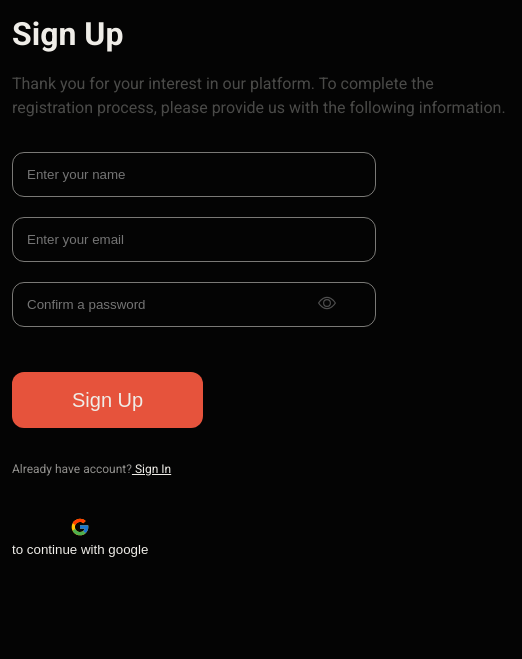
Test: Form registration component › displays error message on failed registration (not token)
In the field labelled "name": (194, 174) left=12, top=152, right=376, bottom=197, type "User"
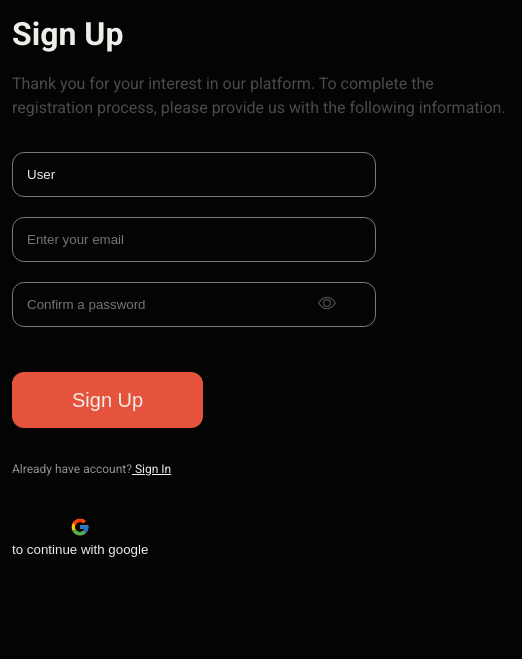
In the field labelled "email": (194, 240) left=12, top=217, right=376, bottom=262, type "test@example.com"
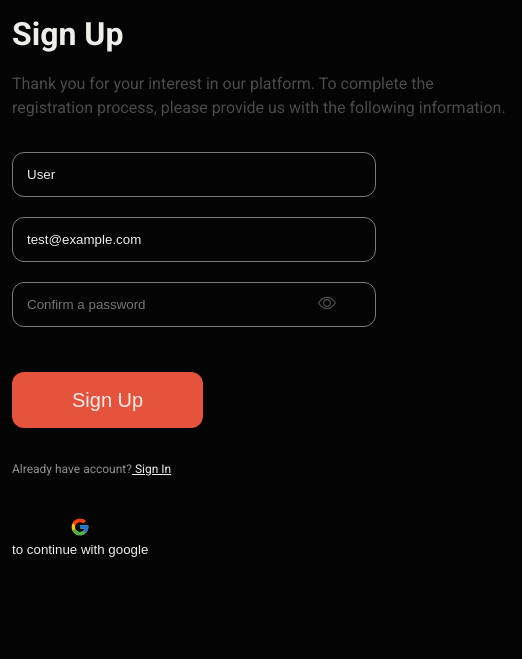
In the password field labelled "password": (194, 304) left=12, top=282, right=376, bottom=327, type "password123"
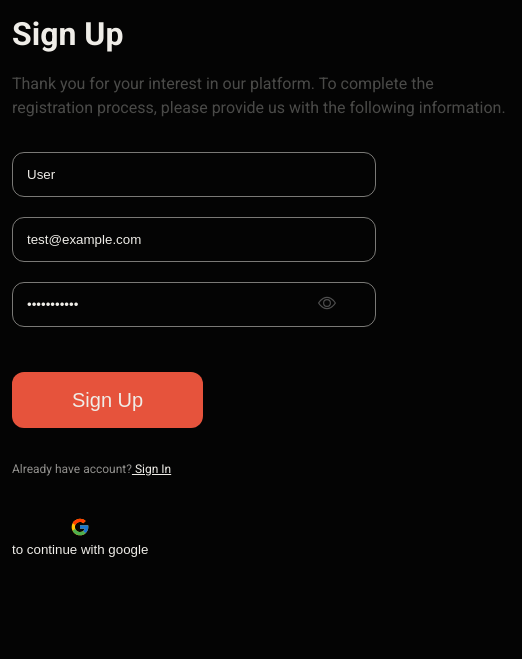
Click the button "Sign Up": (108, 400) left=12, top=372, right=203, bottom=428
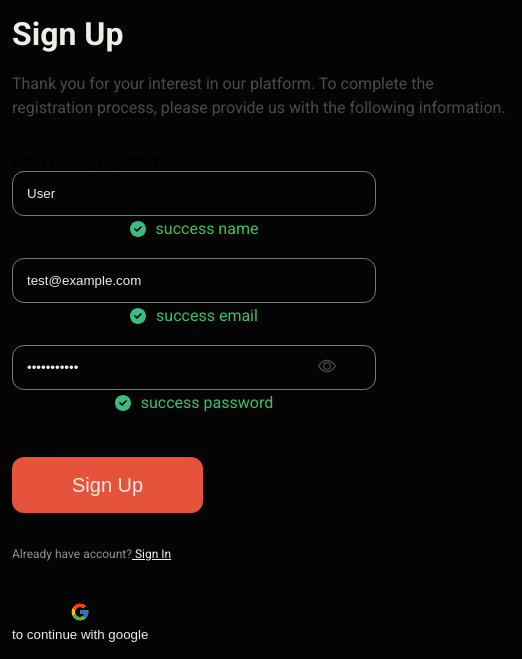
Expected: the text "Error during registration" is shown, left=12, top=152, right=180, bottom=171
